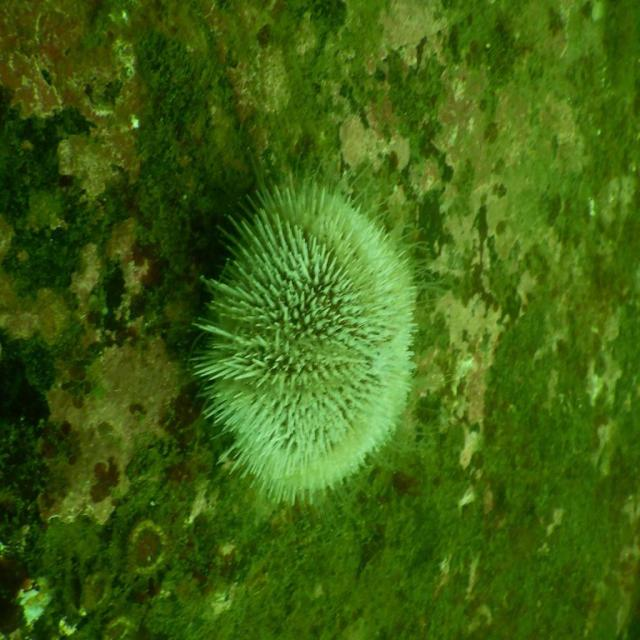Deniz Kestanesi: (190, 144, 452, 516)
